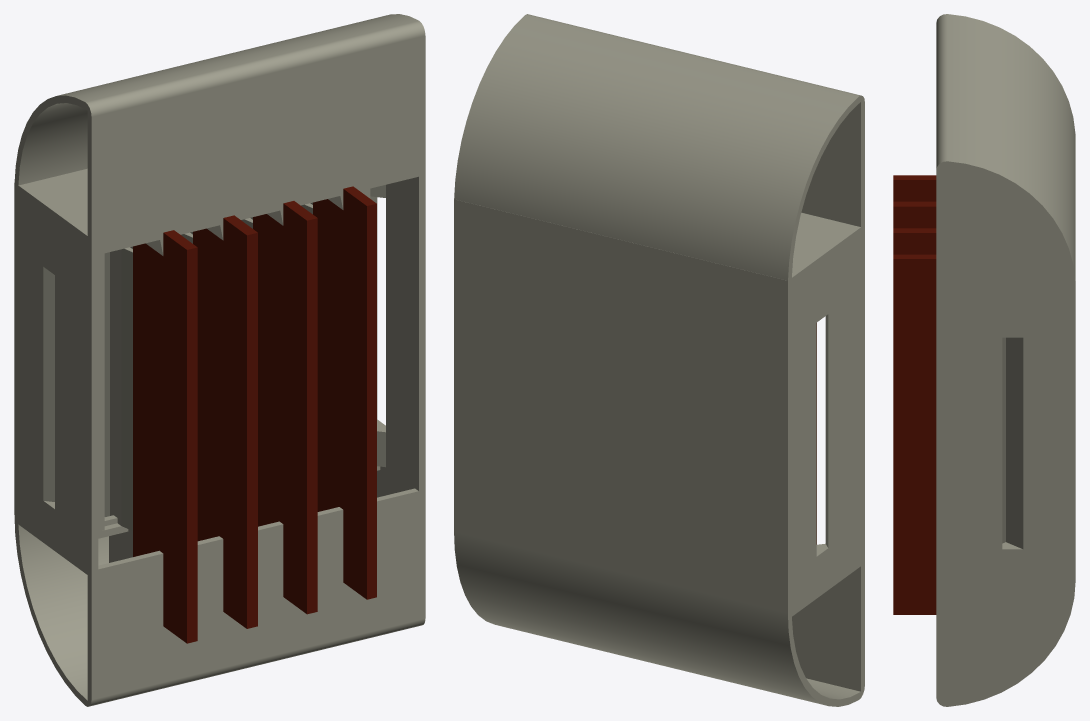
The picture shows the model from 3 angles, left to right: view 1: azimuth 30°, elevation 25°; view 2: azimuth 150°, elevation 25°; view 3: azimuth 270°, elevation 25°; orthographic projection. The views are drawn at different scales.
Parts seen in each view (by area): view 1: 0901203改 組合.2.mesh, 立方体.003.6.mesh, 立方体.002.5.mesh, 立方体.001.4.mesh, 立方体.006.3.mesh; view 2: 0901203改 組合.2.mesh; view 3: 0901203改 組合.2.mesh, 立方体.006.3.mesh, 立方体.002.5.mesh, 立方体.001.4.mesh, 立方体.003.6.mesh.
Part boxes in pixels (left/top/right/bottom): 0901203改 組合.2.mesh: left=14, top=14, right=425, bottom=706; 立方体.003.6.mesh: left=133, top=230, right=197, bottom=643; 立方体.002.5.mesh: left=193, top=215, right=257, bottom=628; 立方体.001.4.mesh: left=253, top=201, right=317, bottom=614; 立方体.006.3.mesh: left=313, top=186, right=376, bottom=599; 0901203改 組合.2.mesh: left=454, top=14, right=864, bottom=706; 0901203改 組合.2.mesh: left=936, top=14, right=1075, bottom=706; 立方体.006.3.mesh: left=893, top=254, right=936, bottom=614; 立方体.002.5.mesh: left=893, top=201, right=936, bottom=228; 立方体.001.4.mesh: left=893, top=228, right=936, bottom=254; 立方体.003.6.mesh: left=893, top=175, right=936, bottom=201.
Bounding box in the file's own units: 100 × 173 × 52.3.
